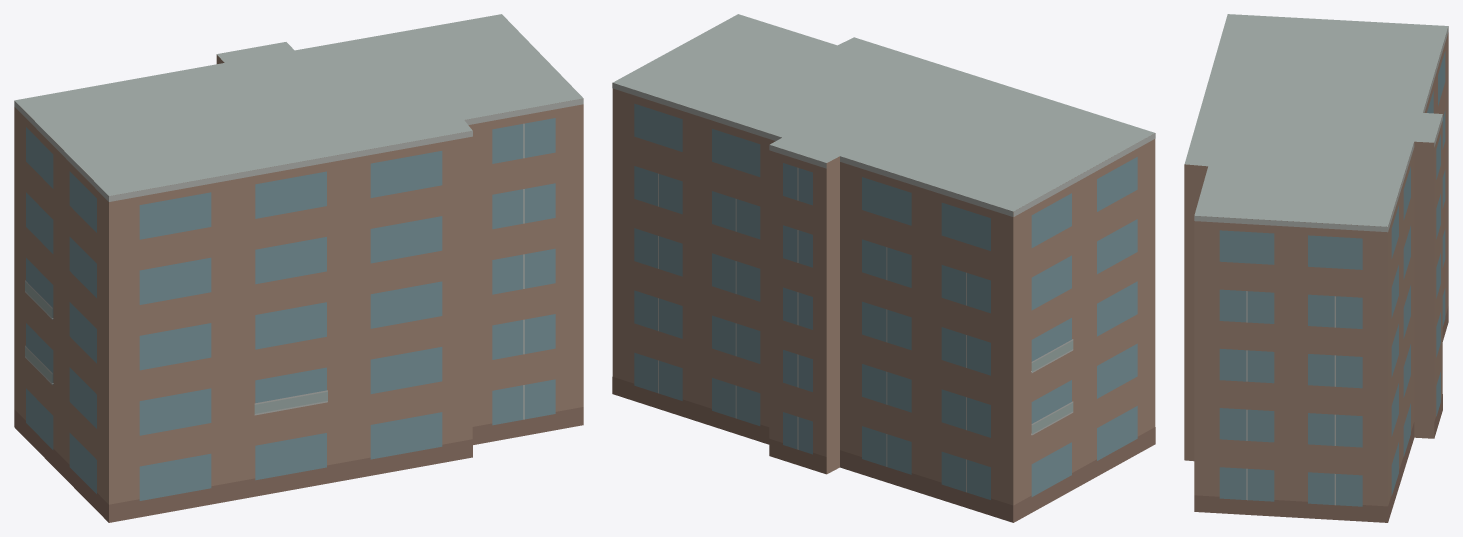
Rendered from survey-upis-32808448.glb.
3 renders of one model, left to right at view 1: azimuth 30°, elevation 25°; view 2: azimuth 150°, elevation 25°; view 3: azimuth 270°, elevation 25°, orthographic. The views are drawn at different scales.
Parts seen in each view (by area): view 1: survey-upis-32808448.tmp; view 2: survey-upis-32808448.tmp; view 3: survey-upis-32808448.tmp.
Boxes of the visible parts, <box> form: survey-upis-32808448.tmp: <box>14,14,583,522</box>; survey-upis-32808448.tmp: <box>612,14,1155,522</box>; survey-upis-32808448.tmp: <box>1184,14,1448,522</box>.
Bounding box in the file's own units: 20.82 × 13.5 × 10.92.
